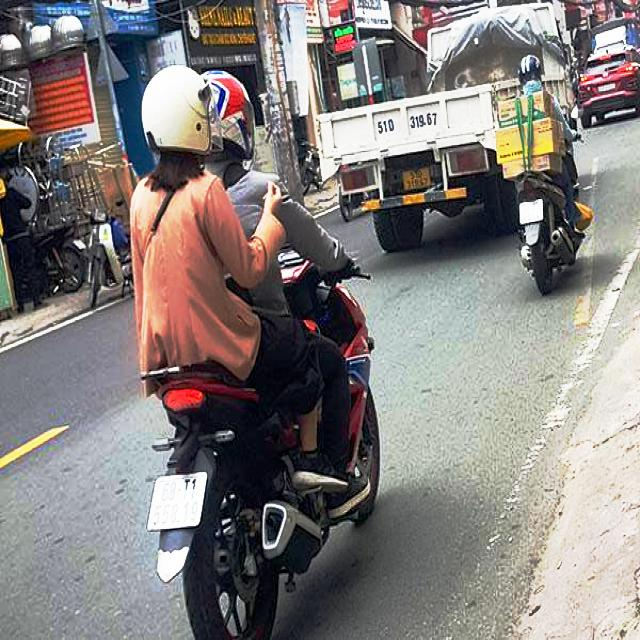license_plate: (149, 475, 206, 531)
